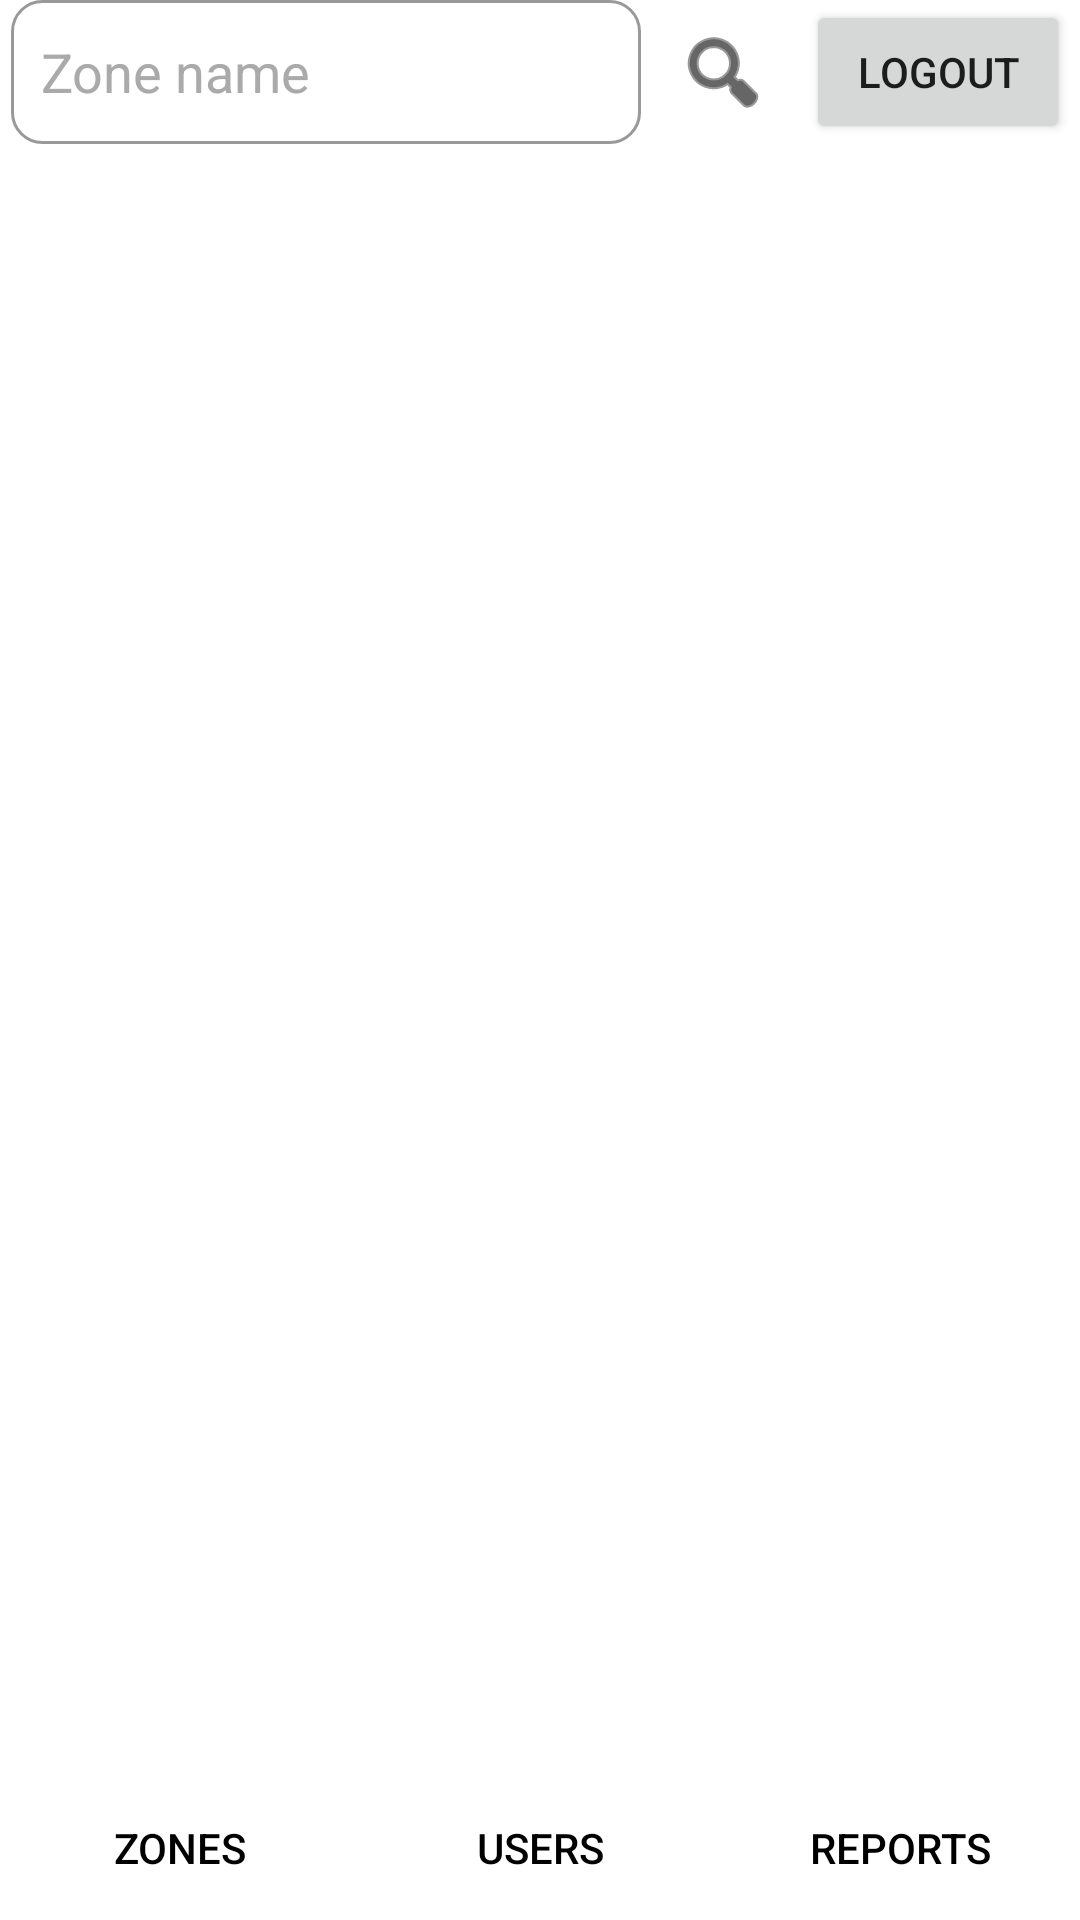

Screen size 1080px x 1920px. Icon name, then its box in pixels as (x1, y1, x2, y2):
Search: (687, 37, 759, 108)
